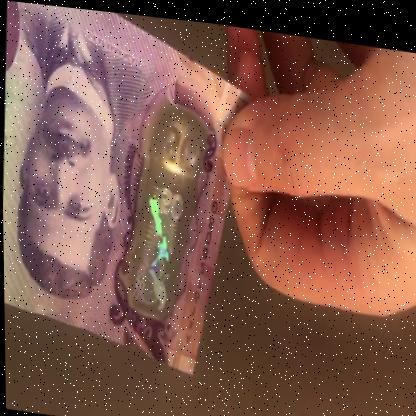50F: (124, 115, 204, 319)
